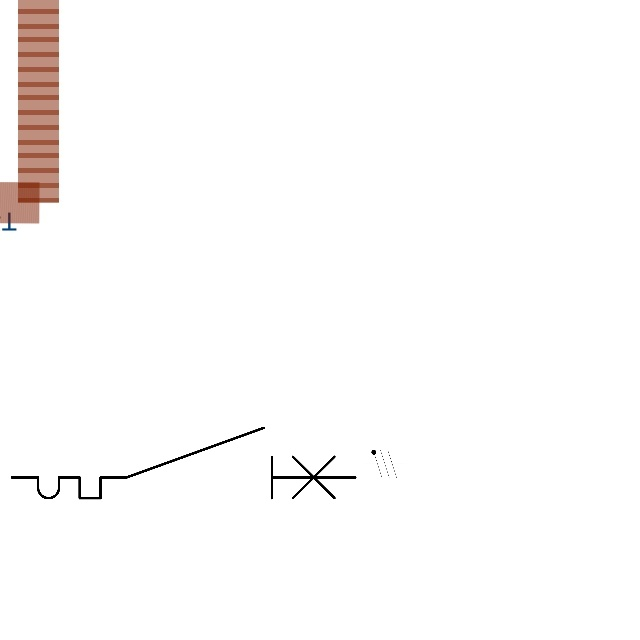interruptor_termomagnetico: (3, 419, 364, 507)
